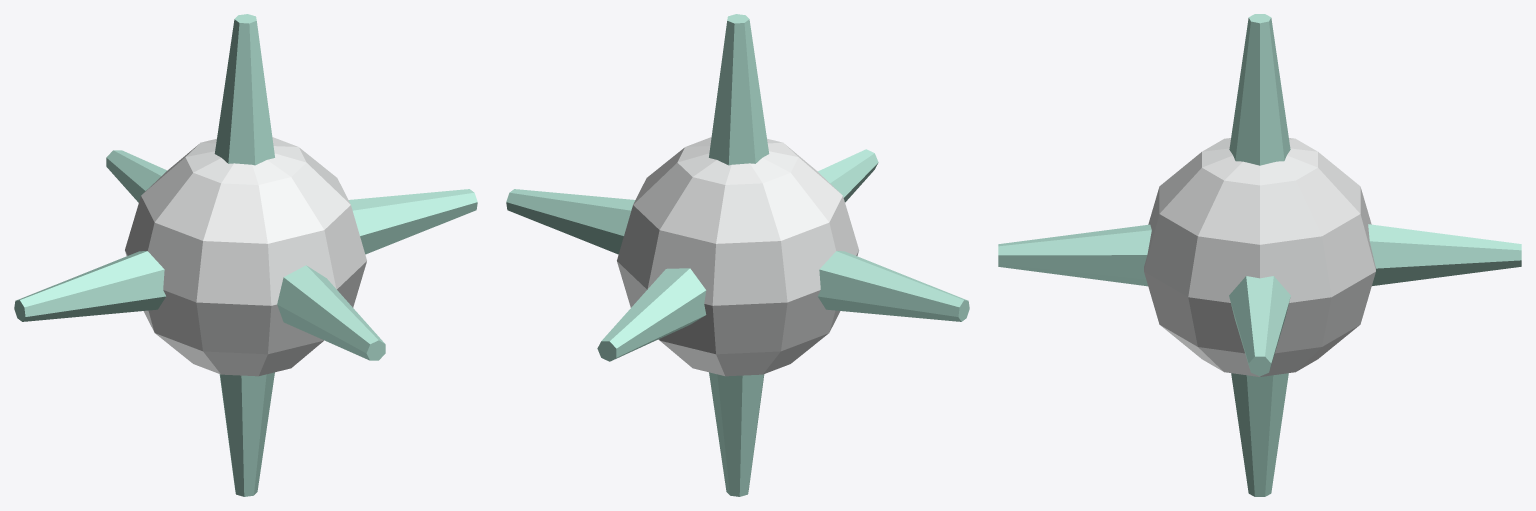
Rendered from simbolo_7_aurora.glb.
The picture shows the model from 3 angles, left to right: view 1: azimuth 30°, elevation 25°; view 2: azimuth 150°, elevation 25°; view 3: azimuth 270°, elevation 25°; orthographic projection.
Parts seen in each view (by area): view 1: simbolo_7_aurora; view 2: simbolo_7_aurora; view 3: simbolo_7_aurora.
Boxes of the visible parts, x1,y1,x2,y2 form: simbolo_7_aurora: (14,14,477,496); simbolo_7_aurora: (506,14,969,496); simbolo_7_aurora: (998,14,1521,496).
Size of the model in its own units: 0.9 by 0.9 by 0.9.
